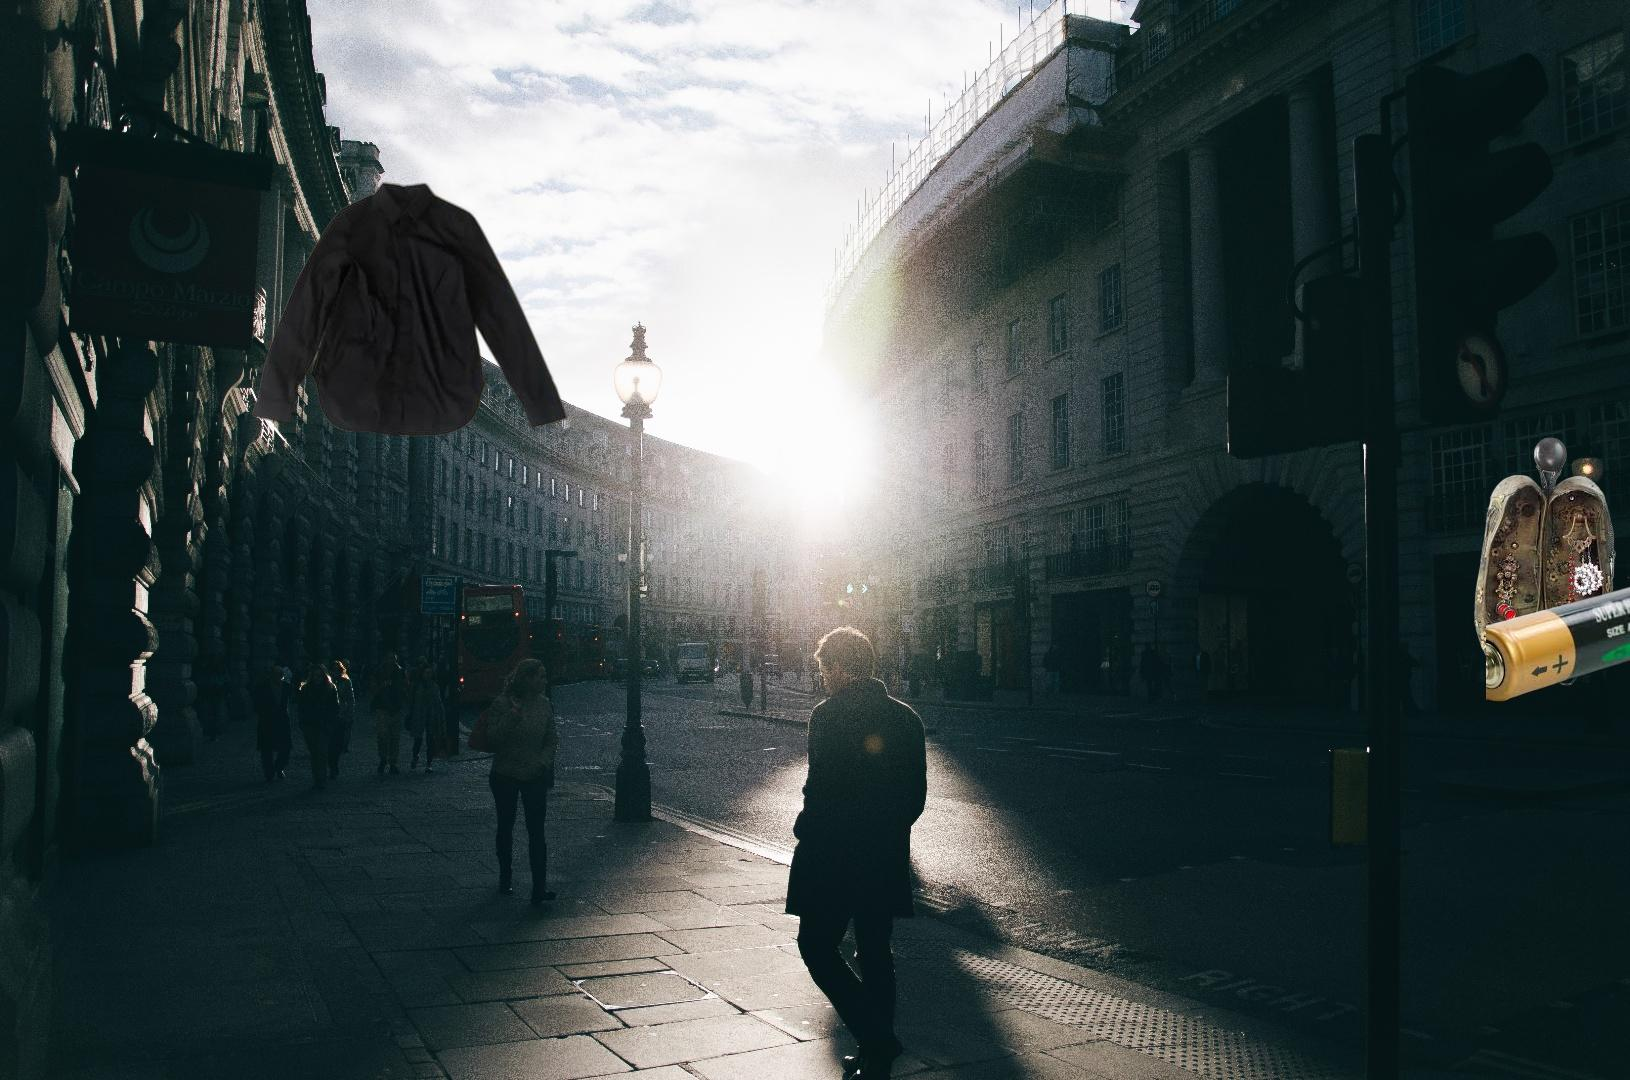battery: (1486, 568, 1630, 705)
clothes: (248, 178, 570, 441)
shoes: (1471, 435, 1619, 691)
